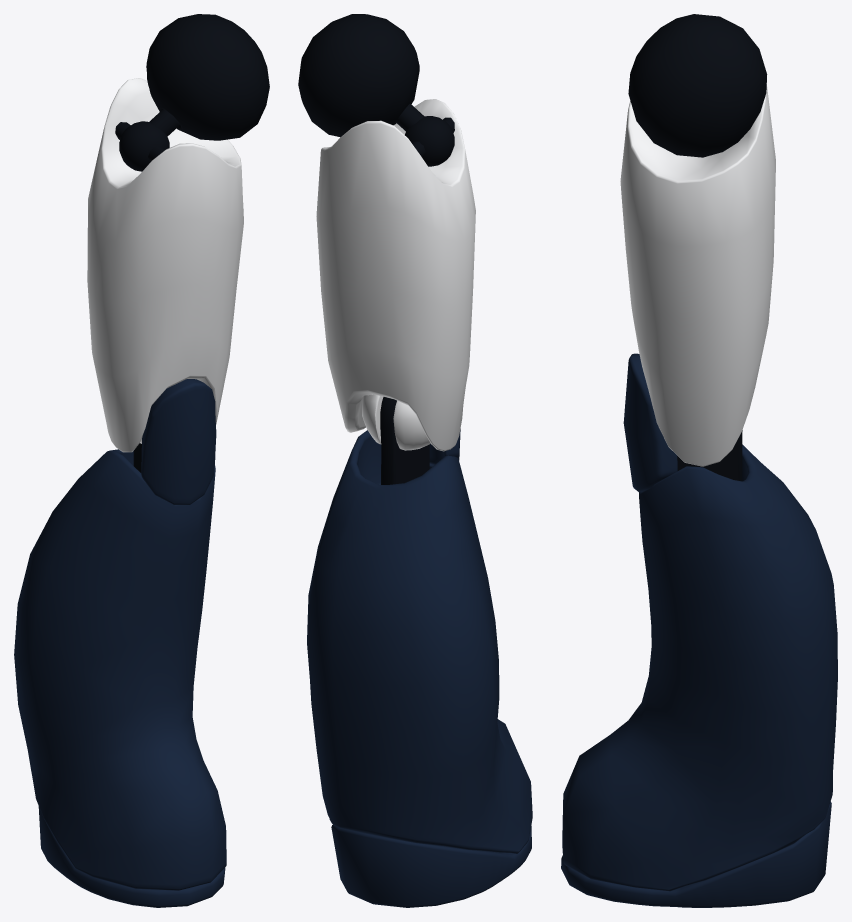
The model's file is LEG_V1.FBX.
3 views of the same model, side by side, from view 1: azimuth 30°, elevation 25°; view 2: azimuth 150°, elevation 25°; view 3: azimuth 270°, elevation 25° (orthographic). The views are drawn at different scales.
Parts seen in each view (by area): view 1: Object001; view 2: Object001; view 3: Object001.
Boxes of the visible parts, x1,y1,x2,y2 form: Object001: (14,14,269,907); Object001: (298,14,532,907); Object001: (561,14,837,907).
Size of the model in its own units: 26.15 by 99.51 by 27.91.
